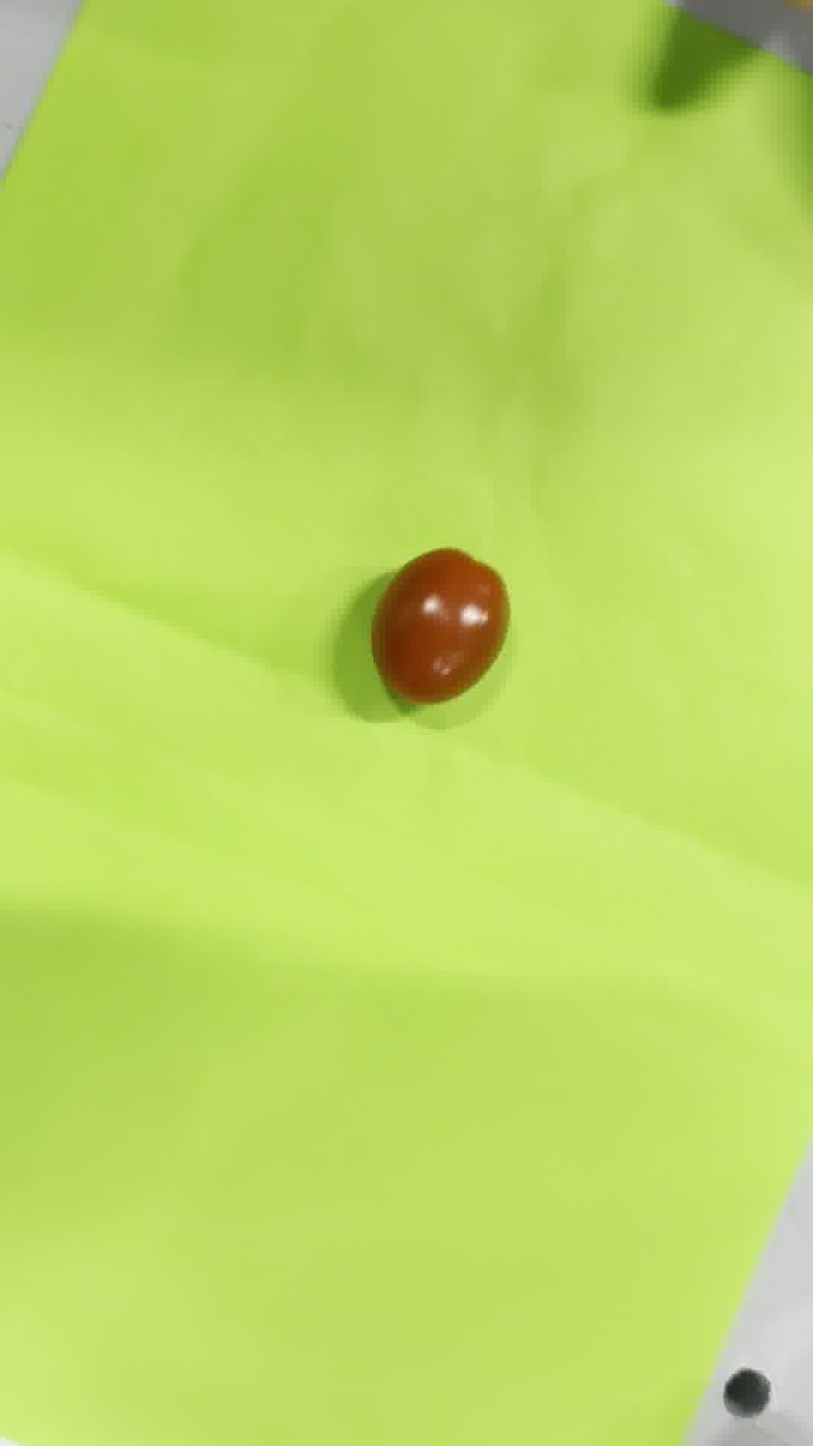red_cherry_tomato: (369, 547, 510, 712)
